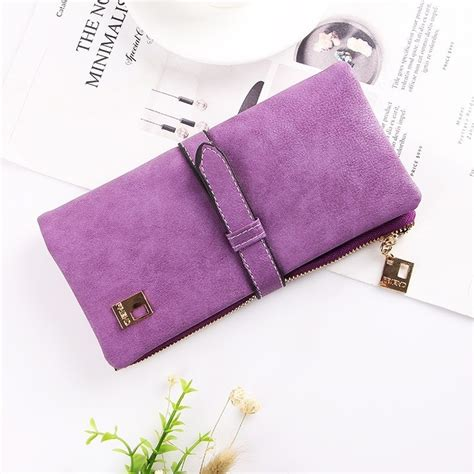gamuza: (36, 60, 421, 369)
